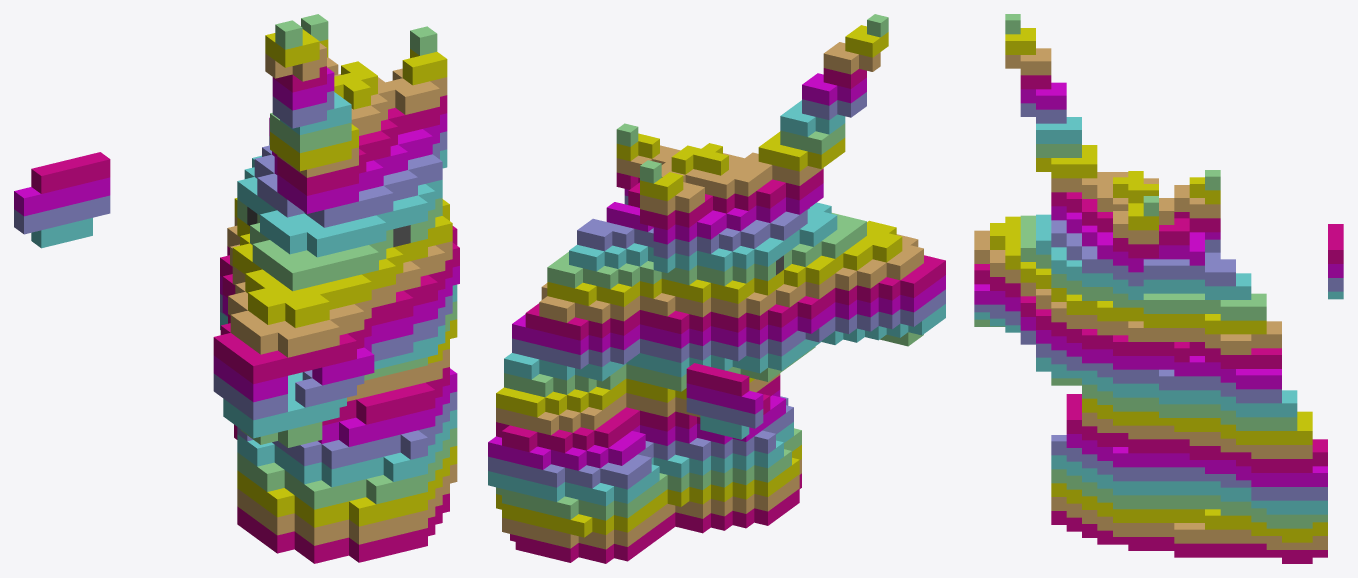
The picture shows the model from 3 angles, left to right: view 1: azimuth 30°, elevation 25°; view 2: azimuth 150°, elevation 25°; view 3: azimuth 270°, elevation 25°; orthographic projection. The views are drawn at different scales.
Size of the model in its own units: 1 by 1.6 by 1.2.
